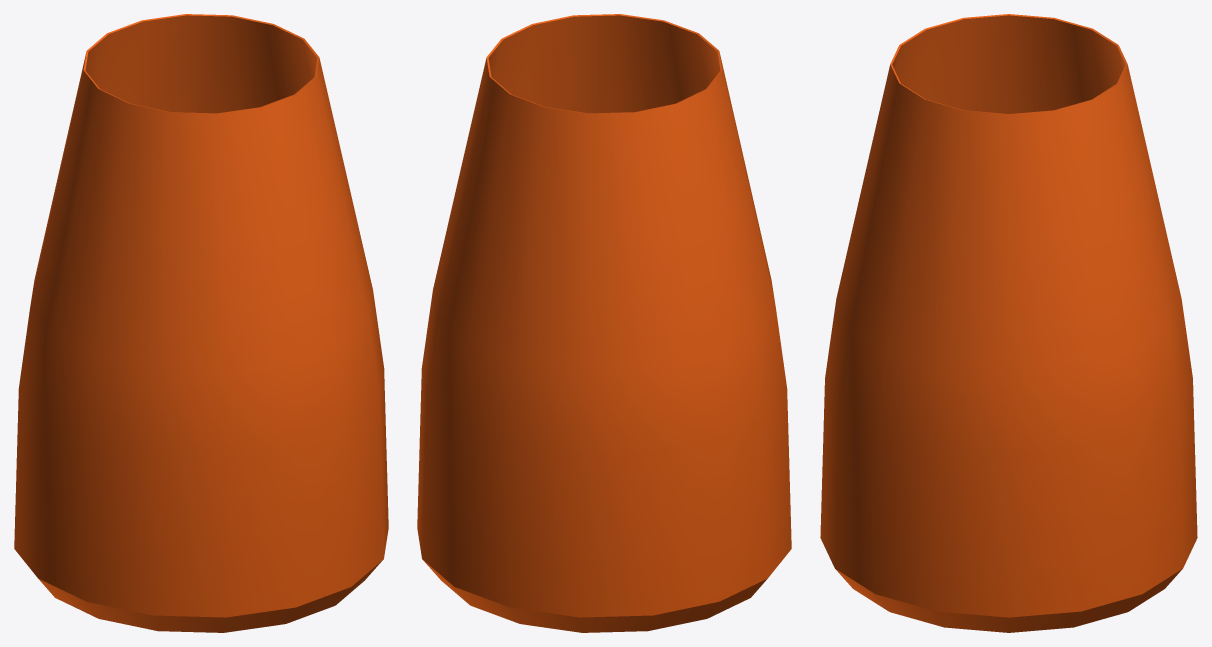
Rendered from Vase.fbx.
3 views of the same model, side by side, from view 1: azimuth 30°, elevation 25°; view 2: azimuth 150°, elevation 25°; view 3: azimuth 270°, elevation 25° (orthographic).
Visible parts, largest first — view 1: Cylinder.007; view 2: Cylinder.007; view 3: Cylinder.007.
Part boxes in pixels (x1,y1,x2,y2): Cylinder.007: (14,14,388,632); Cylinder.007: (417,14,791,632); Cylinder.007: (820,14,1197,632).
Size of the model in its own units: 32.14 by 32.14 by 48.15.
